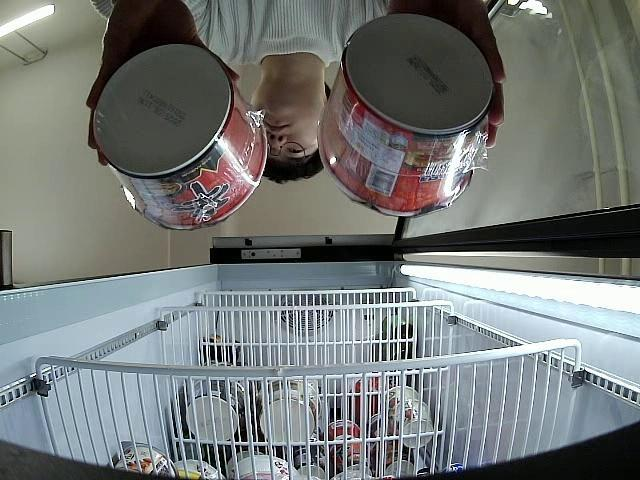01_ShinRamen_L: (316, 12, 495, 216), (93, 42, 268, 233)
